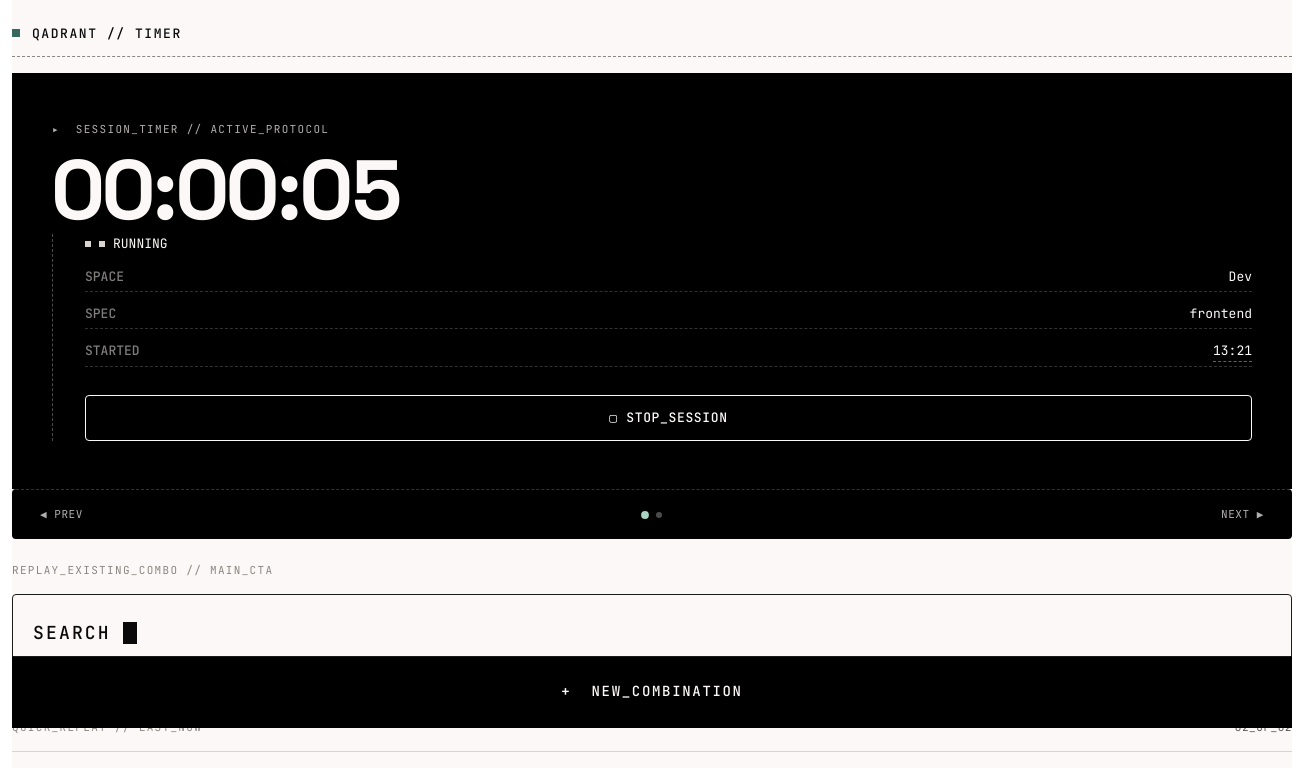
Scenario: Timer page › renders active sessions in a carousel on mobile when multiple timers are active
The image size is (1304, 768).
Check: the text "00:00:05" is shown, box [52,136,401,244]
Check: the message with class "stage-drop" is shown, box [12,73,1292,489]
Click the button with aria-label "Next active session": (1243, 515) [1209,498,1276,531]
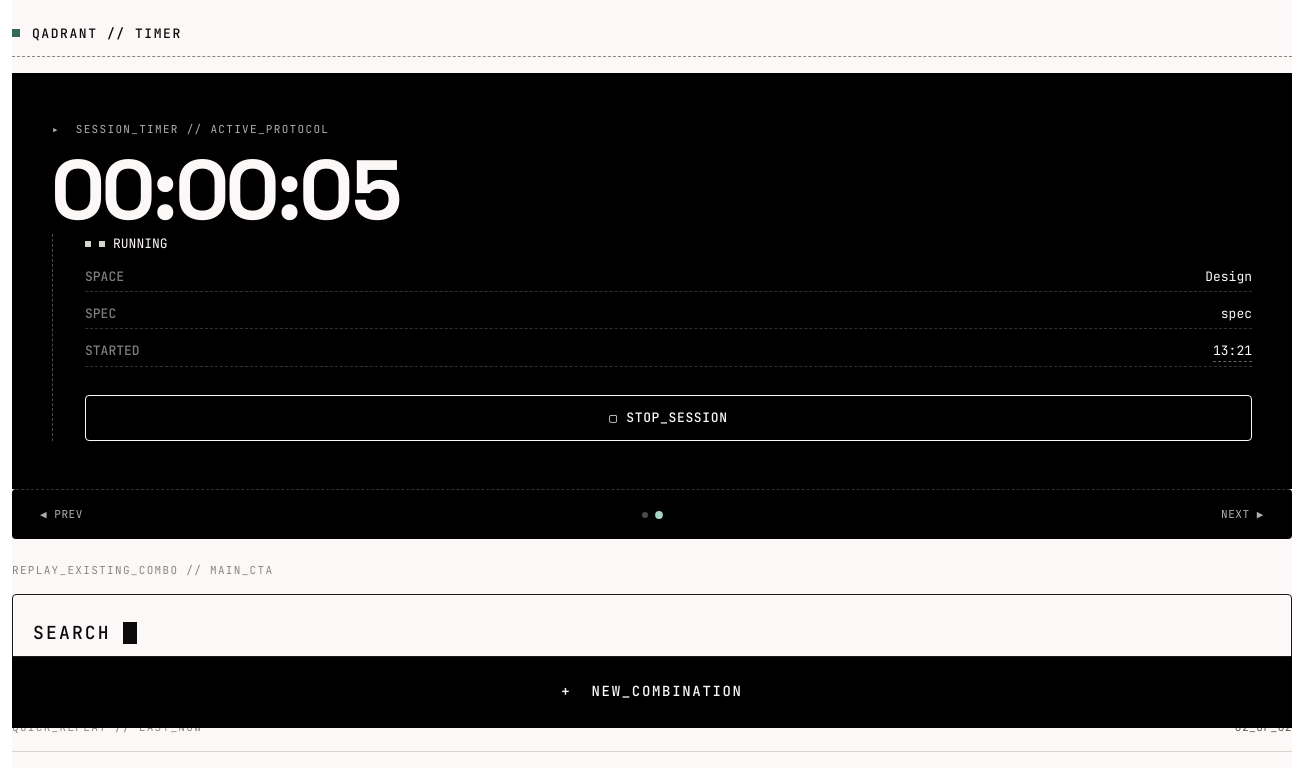
Check: the text "Design" is shown, box [1205,266,1252,287]
Click the button with aria-label "Previous active session": (61, 515) [28,498,95,531]
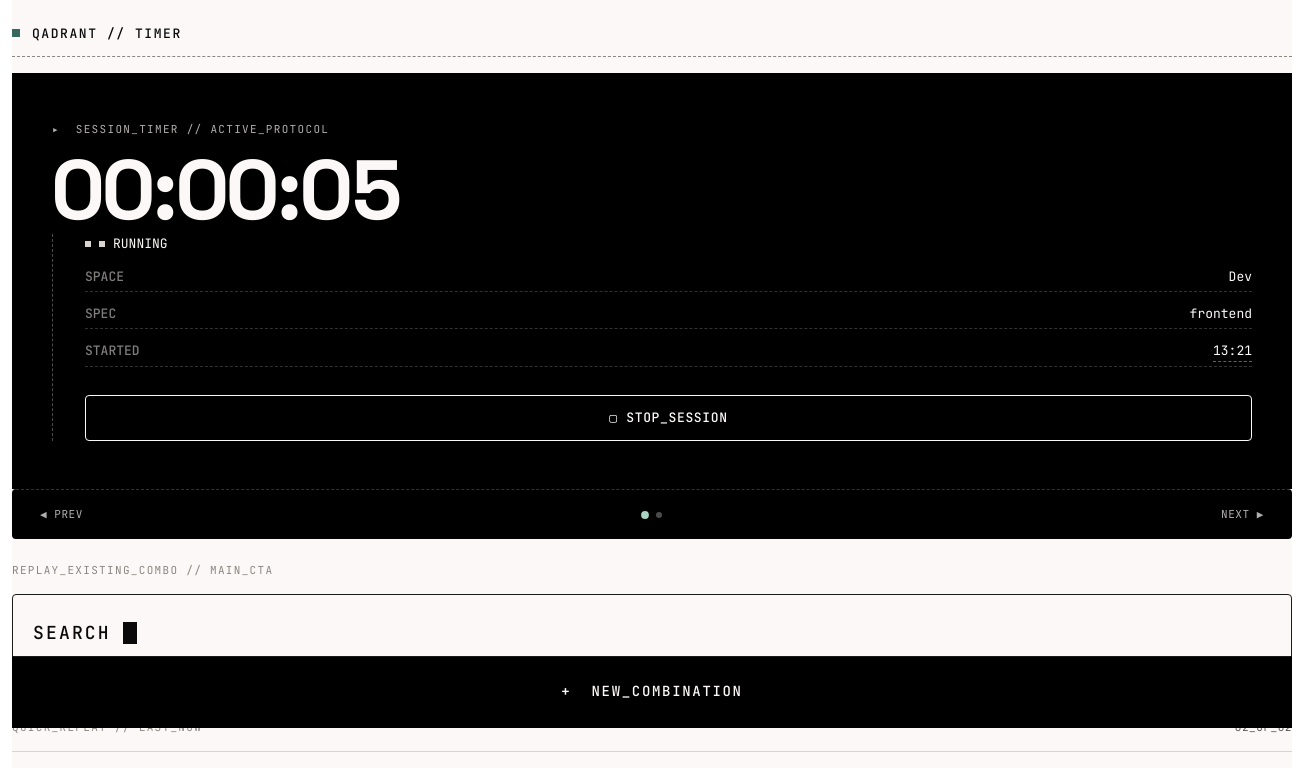
Check: the text "Dev" is shown, box [1229,266,1252,287]
